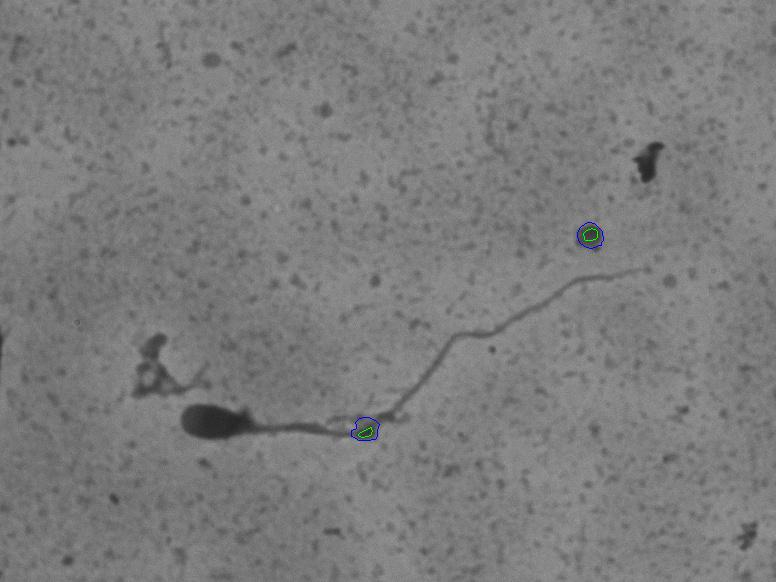Normal: (162, 255, 637, 477)
